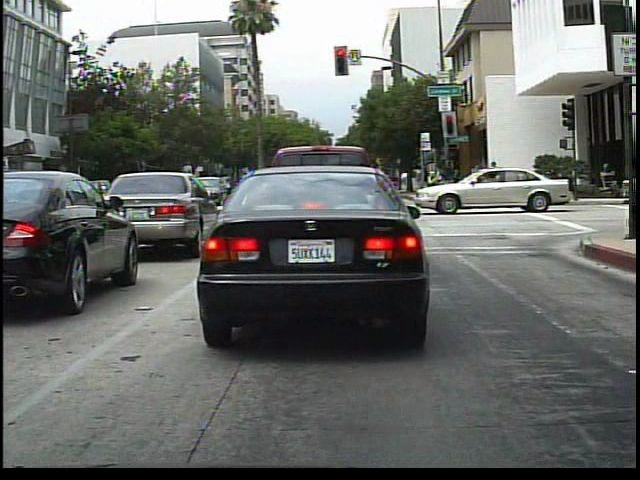person: (431, 160, 461, 210), (467, 158, 485, 199), (488, 158, 506, 198)
